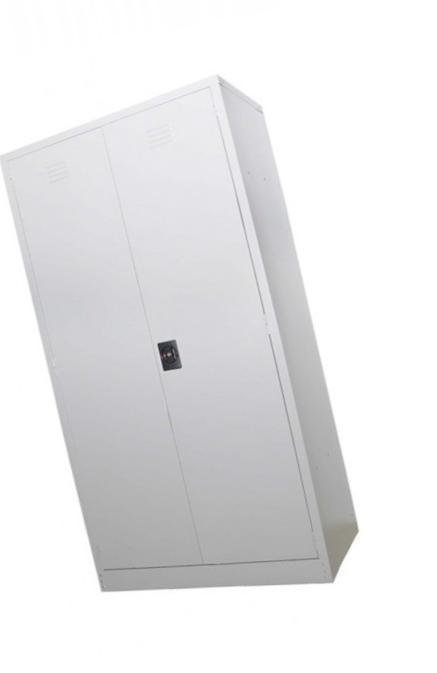Armario: (12, 74, 367, 610)
